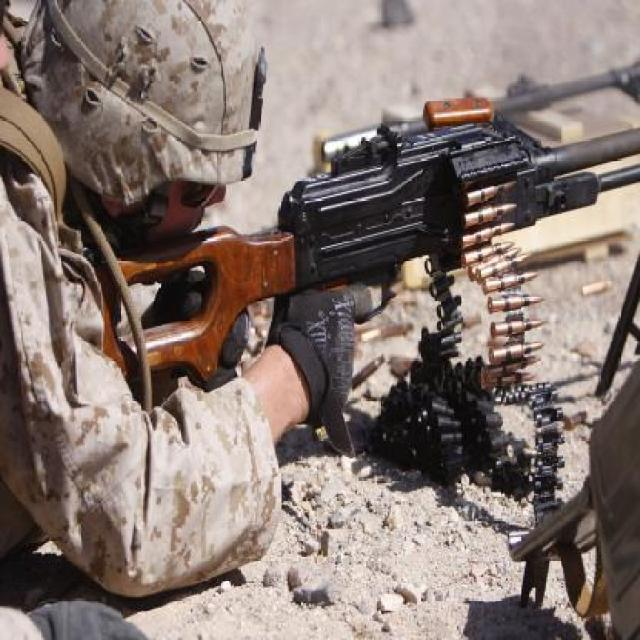weapon: (87, 87, 640, 485)
